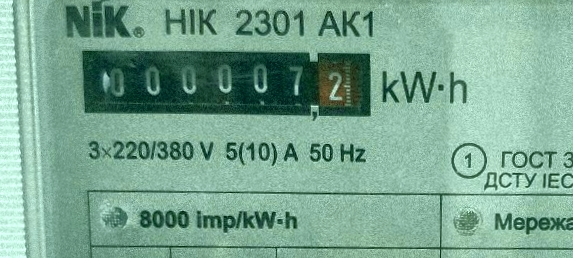0: (176, 60, 200, 98), (105, 63, 128, 99), (248, 59, 270, 96), (214, 60, 235, 98), (142, 62, 163, 97)
2: (324, 68, 346, 104)
7: (284, 61, 306, 99)
screen: (75, 40, 380, 126)
